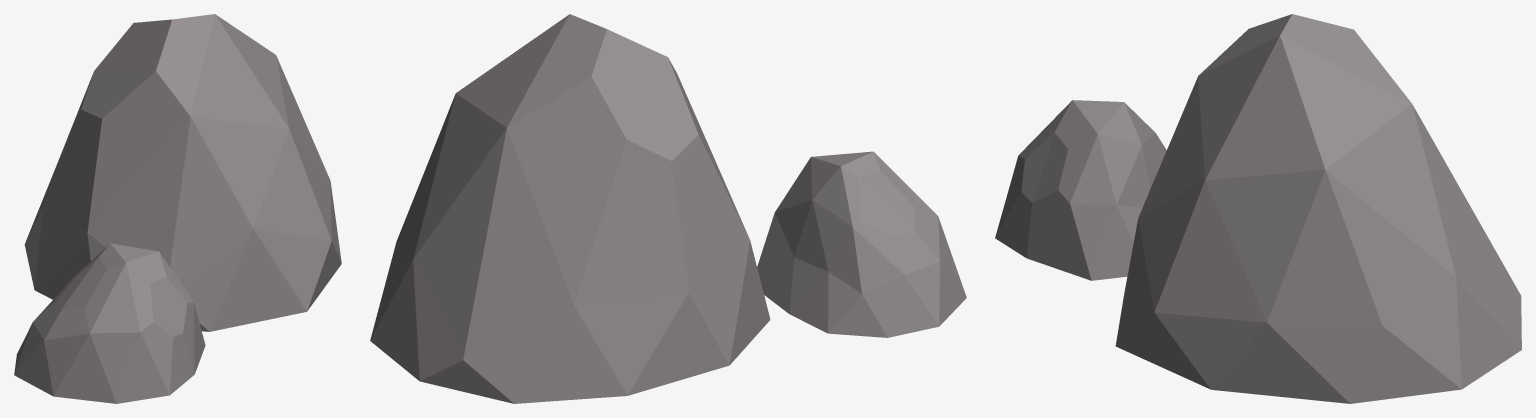
The model's file is QuarryStone(3).fbx.
The picture shows the model from 3 angles, left to right: view 1: azimuth 30°, elevation 25°; view 2: azimuth 150°, elevation 25°; view 3: azimuth 270°, elevation 25°; orthographic projection. The views are drawn at different scales.
Visible parts, largest first — view 1: QuarryStone(3); view 2: QuarryStone(3); view 3: QuarryStone(3).
Boxes of the visible parts, <box> form: QuarryStone(3): <box>14,14,341,403</box>; QuarryStone(3): <box>370,14,966,403</box>; QuarryStone(3): <box>995,14,1521,403</box>.
Bounding box in the file's own units: 11.65 × 7.35 × 11.73.
